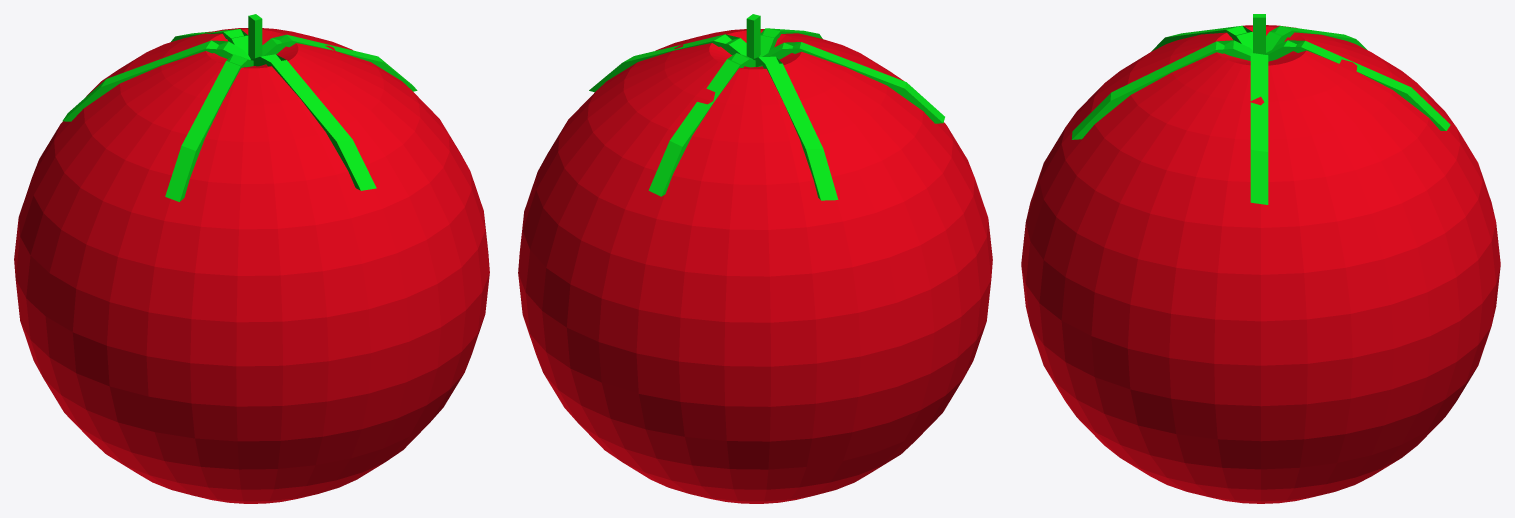
File: TOMATO JRL.fbx
3 renders of one model, left to right at view 1: azimuth 30°, elevation 25°; view 2: azimuth 150°, elevation 25°; view 3: azimuth 270°, elevation 25°, orthographic.
Visible parts, largest first — view 1: Sphere, Cube.002, Cube.005, Cube.004, Cube.001, Cube.006, Cube.003; view 2: Sphere, Cube.004, Cube.003, Cube.005, Cube.001, Cube.006, Cube.002; view 3: Sphere, Cube.001, Cube.002, Cube.003, Cube.005, Cube.004.
Boxes of the visible parts, x1,y1,x2,y2 form: Sphere: (14,28,489,503); Cube.002: (250,54,376,190); Cube.005: (165,54,253,201); Cube.004: (62,40,250,121); Cube.001: (262,34,417,91); Cube.006: (248,14,262,59); Cube.003: (171,29,250,59); Sphere: (518,29,992,503); Cube.004: (753,56,838,200); Cube.003: (648,53,755,196); Cube.005: (762,42,944,123); Cube.001: (589,34,746,92); Cube.006: (746,14,760,58); Cube.002: (759,28,822,56); Sphere: (1021,25,1500,503); Cube.001: (1250,53,1268,204); Cube.002: (1071,40,1252,139); Cube.003: (1266,40,1450,130); Cube.005: (1151,25,1252,51); Cube.004: (1266,26,1366,52).
Size of the model in its own units: 200 by 215 by 200.
